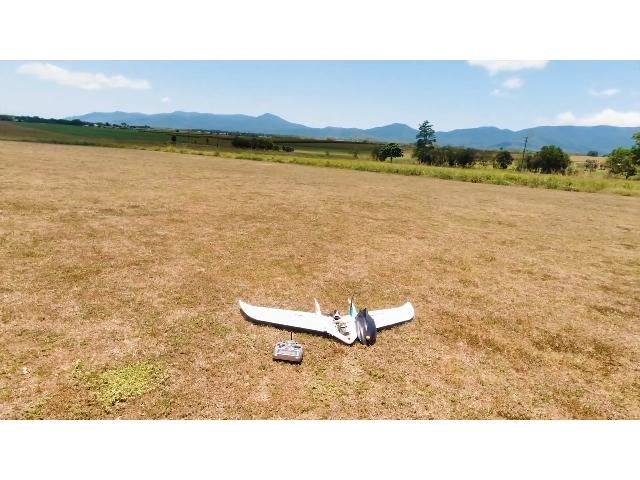Anti-Drone: (224, 281, 434, 362)
